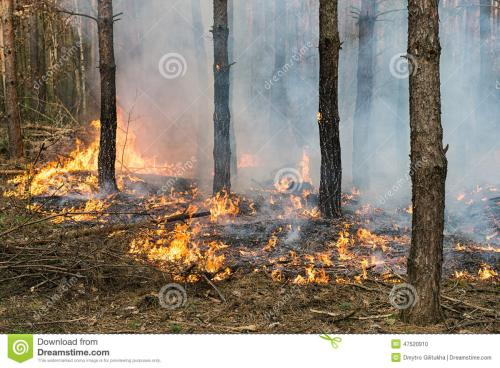fire: (317, 227, 387, 290), (144, 231, 223, 275), (34, 150, 99, 198), (201, 189, 240, 220)
smoke: (232, 9, 319, 195), (122, 12, 216, 165), (345, 26, 408, 209), (444, 32, 497, 233)
